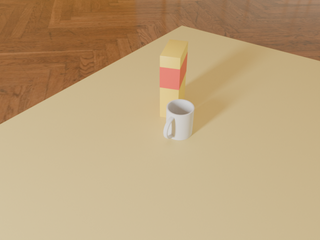box: (160, 40, 188, 117)
cup: (164, 99, 194, 140)
